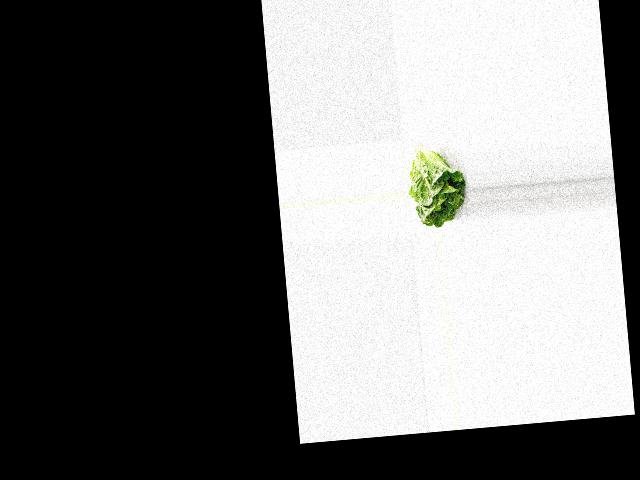lettuce: (404, 142, 469, 228)
